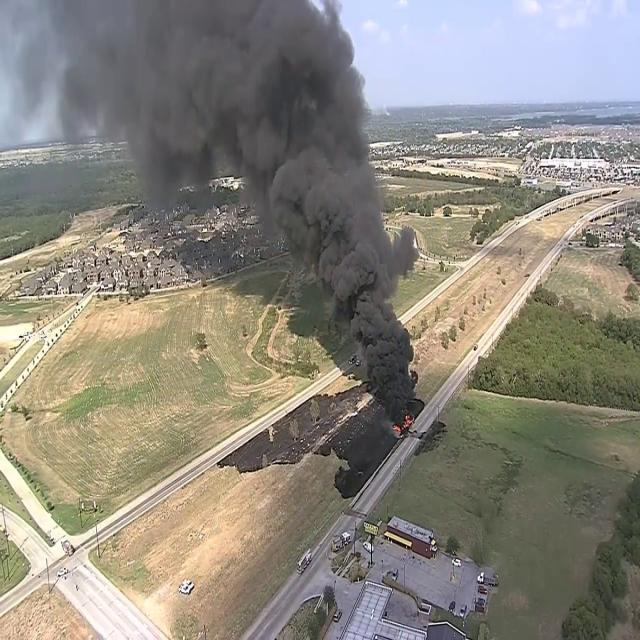Smoke: (33, 0, 416, 348)
